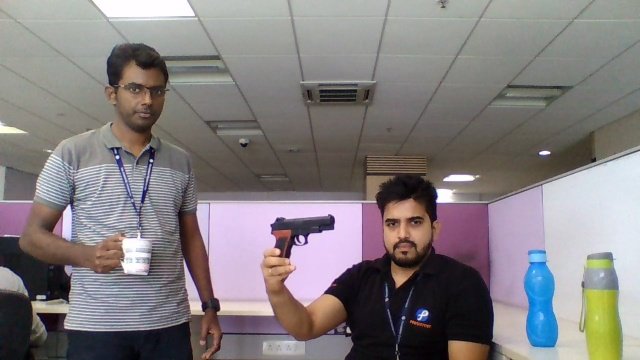gun: (270, 214, 335, 248)
